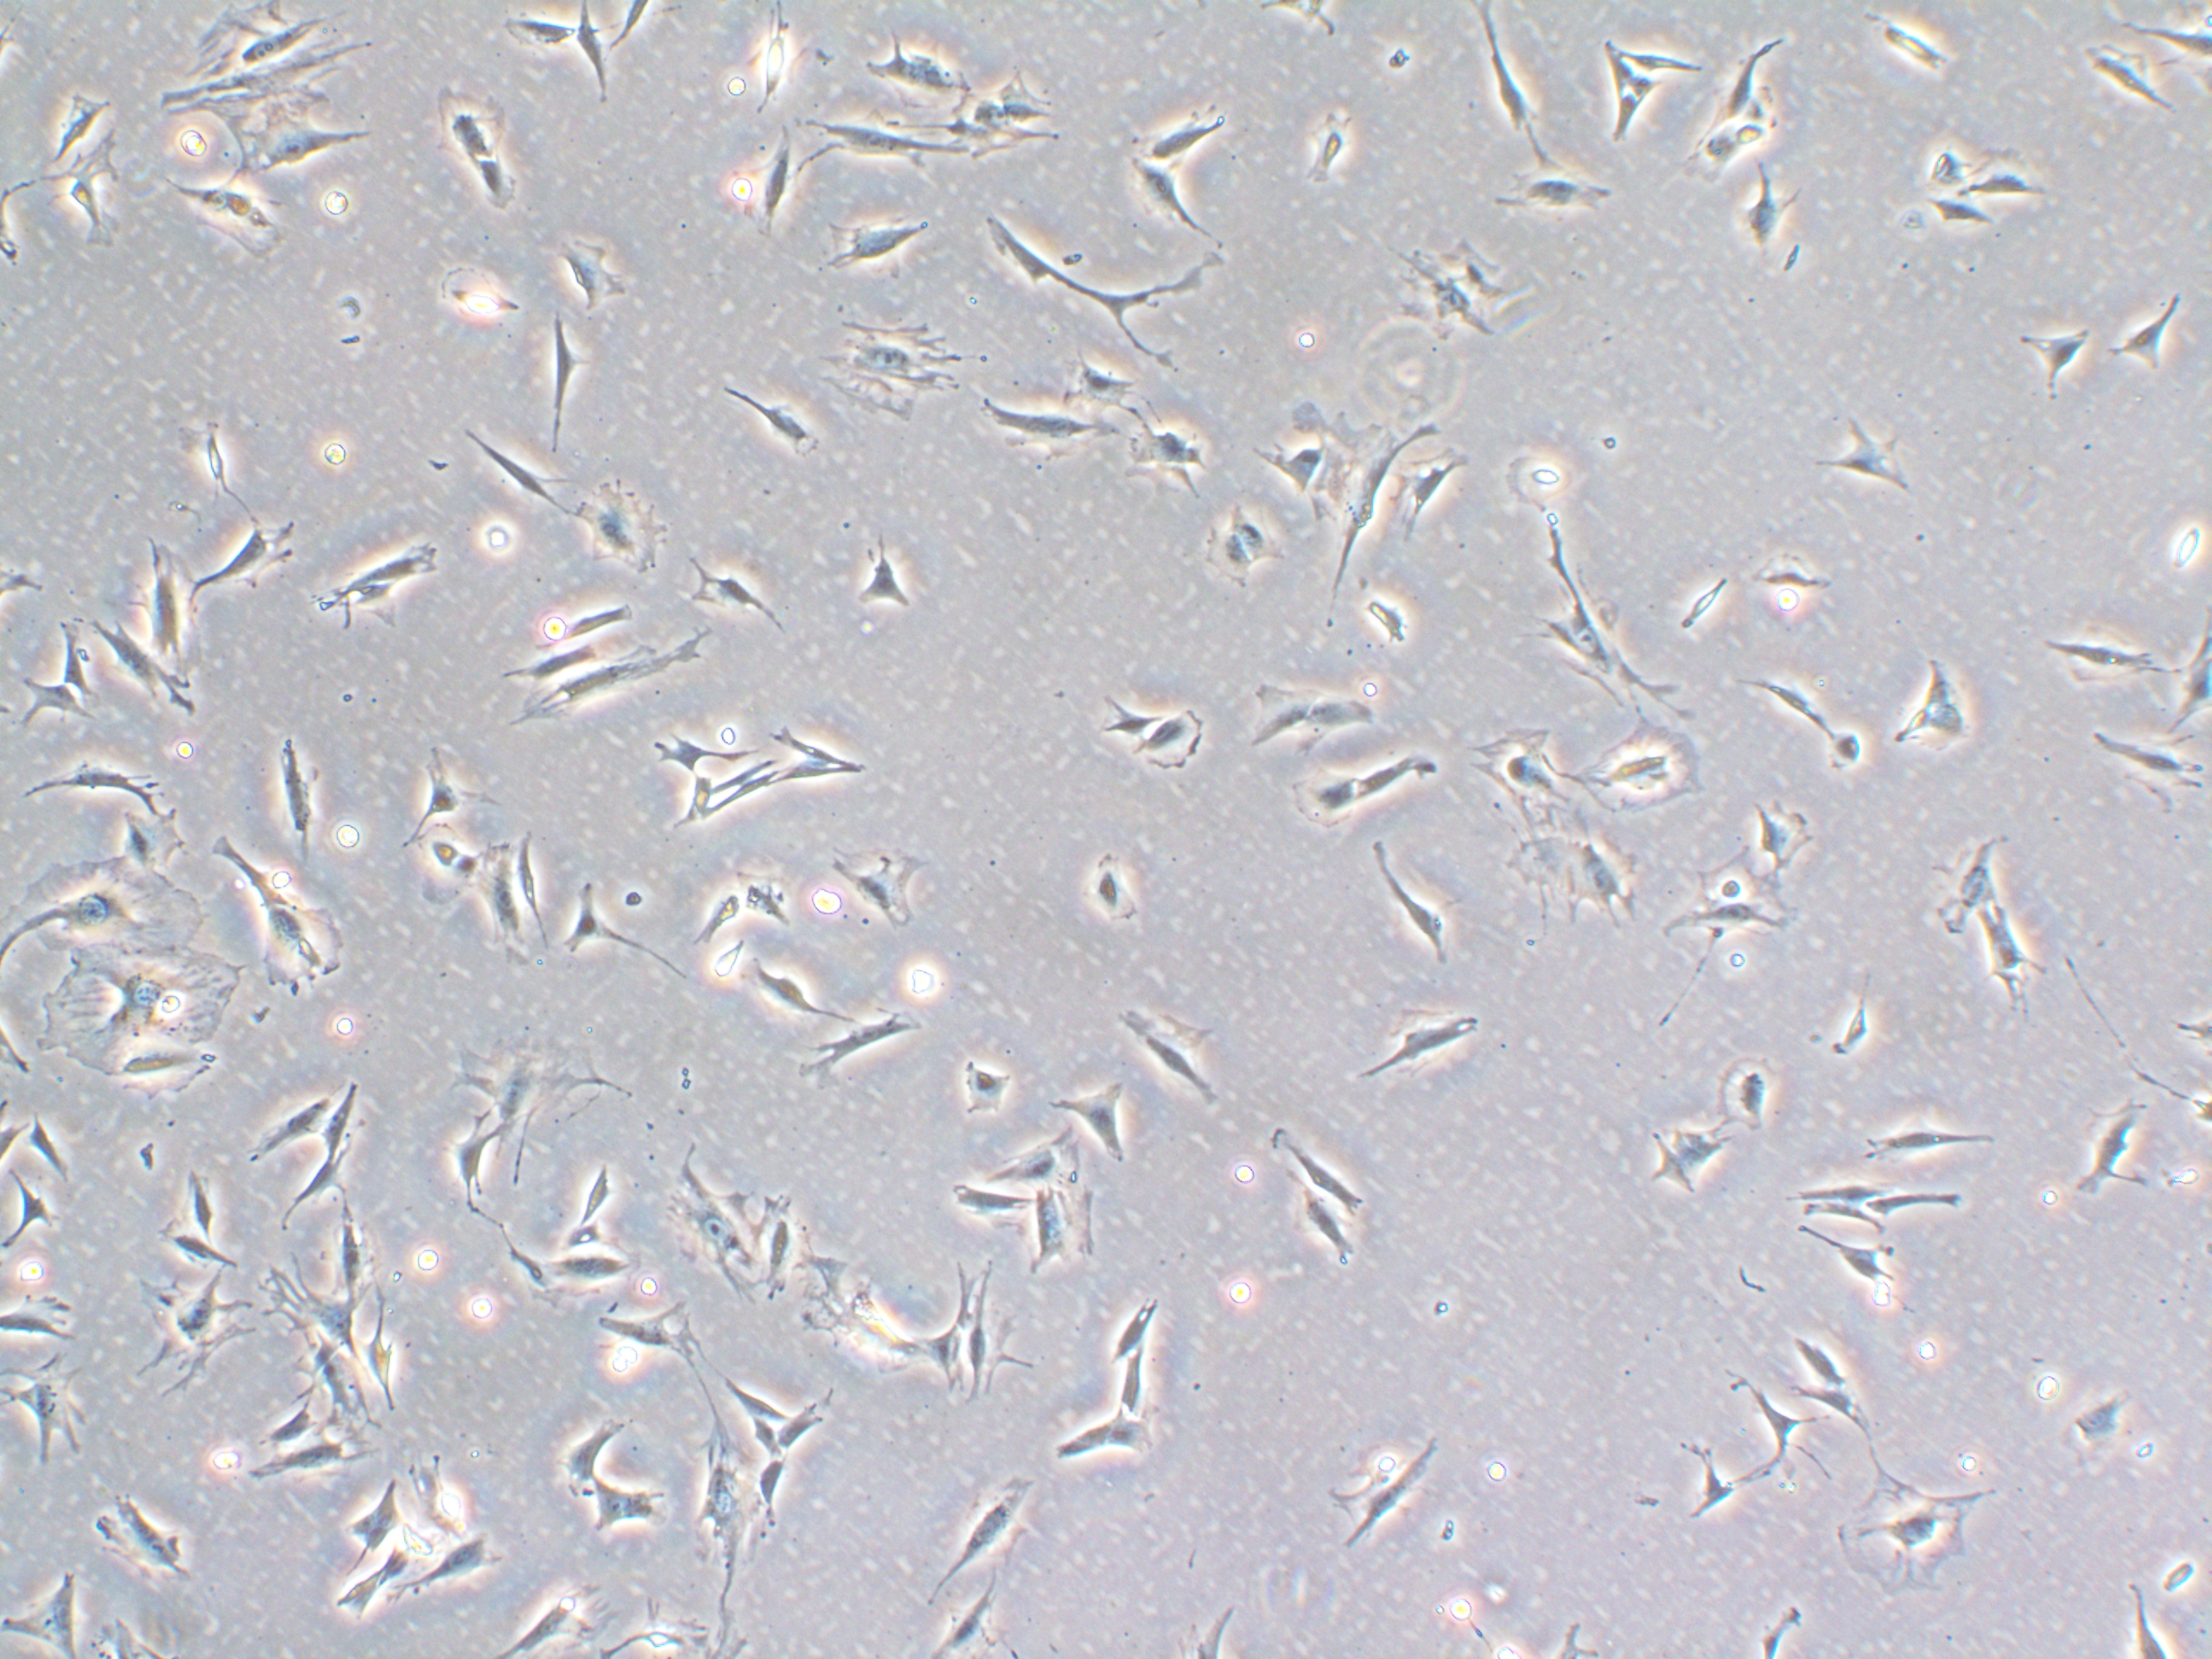small: (1059, 836, 1141, 931), (1815, 979, 1897, 1068), (1494, 437, 1578, 521), (949, 1053, 1031, 1122), (421, 824, 462, 875)
spread: (23, 951, 256, 1110), (1817, 1436, 2022, 1612), (634, 1148, 819, 1319), (150, 7, 341, 164), (1303, 392, 1432, 606), (202, 838, 362, 1009), (1468, 812, 1672, 939), (437, 1023, 650, 1140), (9, 843, 204, 960), (260, 1258, 383, 1432), (106, 528, 225, 706), (1385, 220, 1519, 368), (115, 1251, 251, 1396), (810, 308, 963, 430), (1575, 706, 1721, 826), (679, 1403, 765, 1608), (1454, 697, 1569, 831), (7, 1352, 132, 1460), (563, 479, 671, 601)
